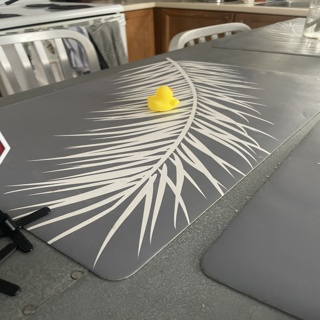duck_regular: (142, 88, 179, 110)
